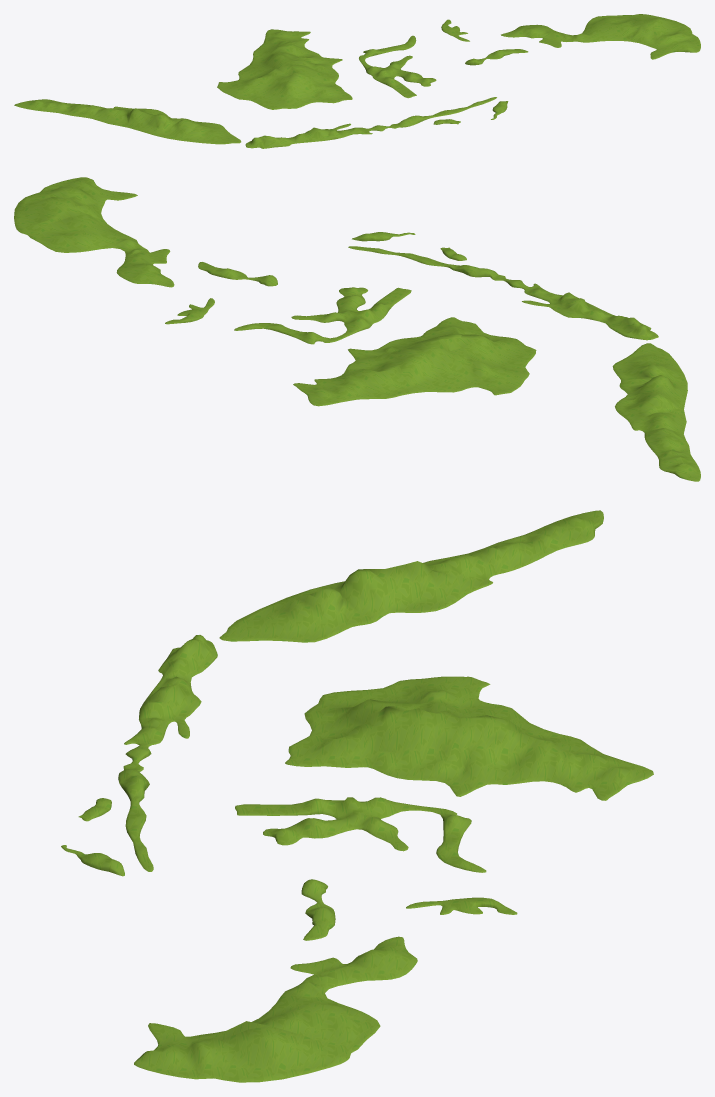
The model's file is indomap.FBX.
The picture shows the model from 3 angles, top to bottom: view 1: azimuth 30°, elevation 25°; view 2: azimuth 150°, elevation 25°; view 3: azimuth 270°, elevation 25°; orthographic projection. The views are drawn at different scales.
Visible parts, largest first — view 1: Box002; view 2: Box002; view 3: Box002.
Boxes of the visible parts, x1,y1,x2,y2 form: Box002: [14, 14, 700, 148]; Box002: [14, 177, 700, 481]; Box002: [61, 510, 653, 1082].
Size of the model in its own units: 7473 by 181 by 3274.
